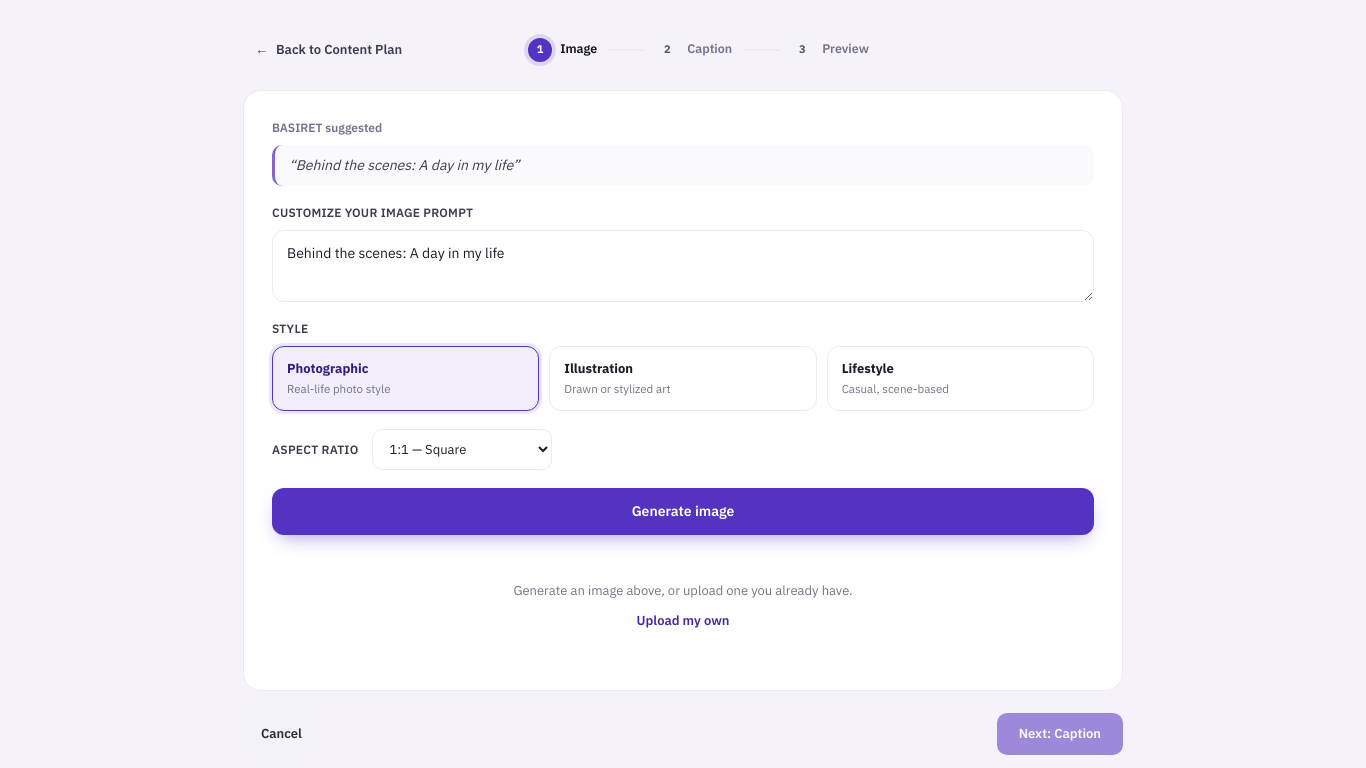
Test: Cancel button + dialog gating › opens the dialog when state is dirty (after a real user edit)
The width and height of the screenshot is (1366, 768).
Type " refined" into the text box with test id "image-prompt" at (683, 266), box [272,230,1094,302]
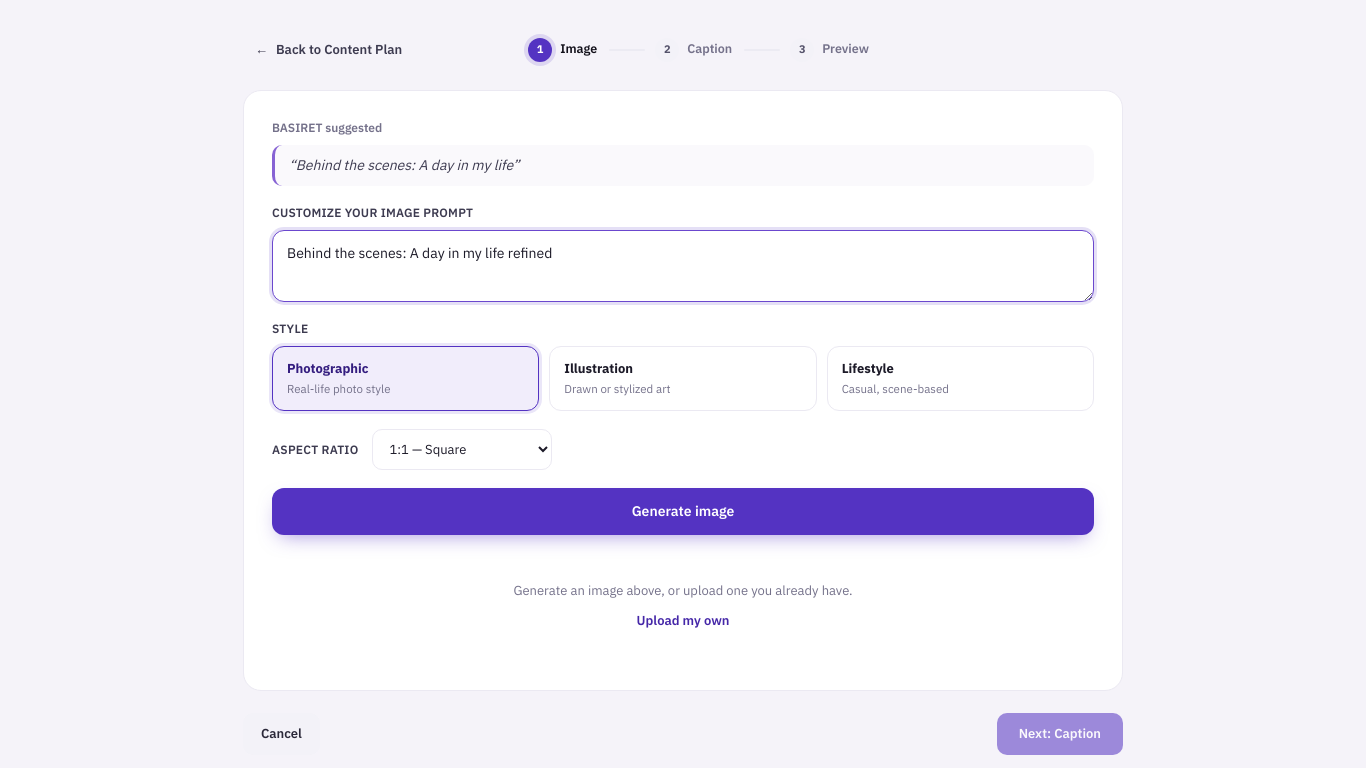
Click the button with test id "cancel-button" at (329, 50), box [243,32,414,68]
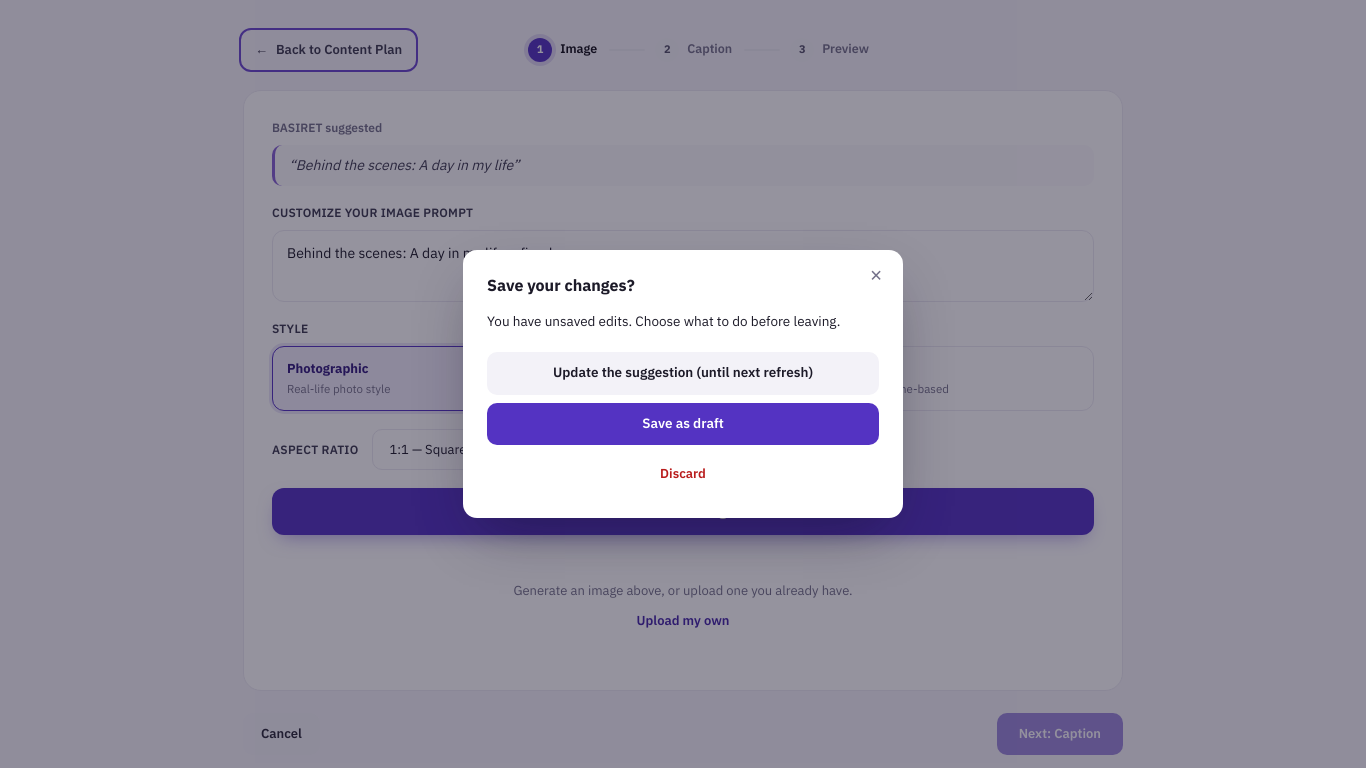
Check: the dialog with test id "cancel-dialog" is shown
